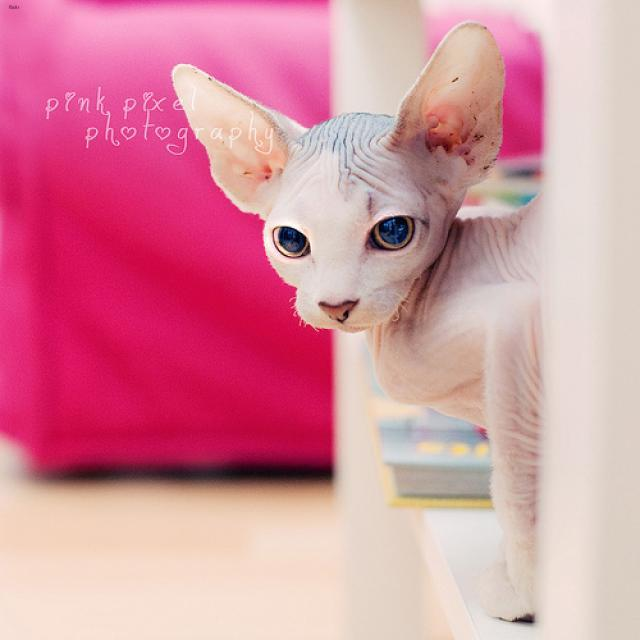Sphynx: (168, 15, 508, 335)
